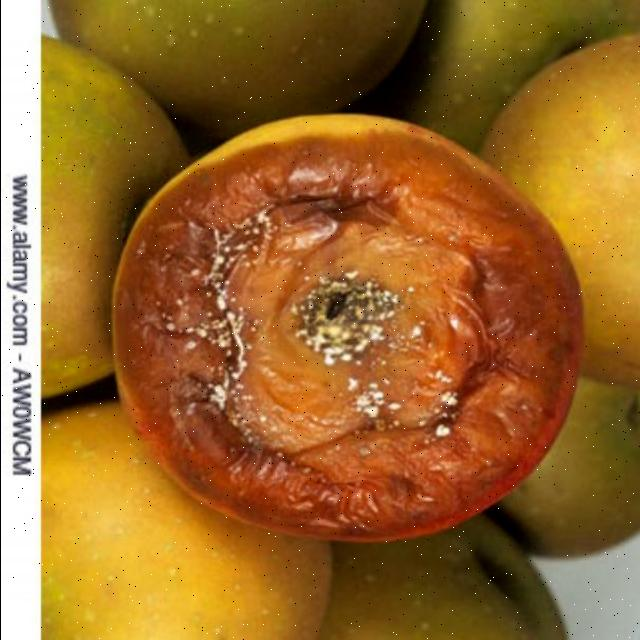ROT: (112, 82, 604, 568)
